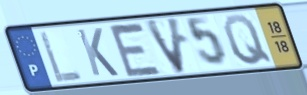5: (182, 14, 232, 71)
E: (106, 22, 165, 79)
K: (74, 26, 121, 78)
L: (36, 28, 85, 85)
Q: (221, 13, 275, 67)
V: (141, 15, 189, 77)
